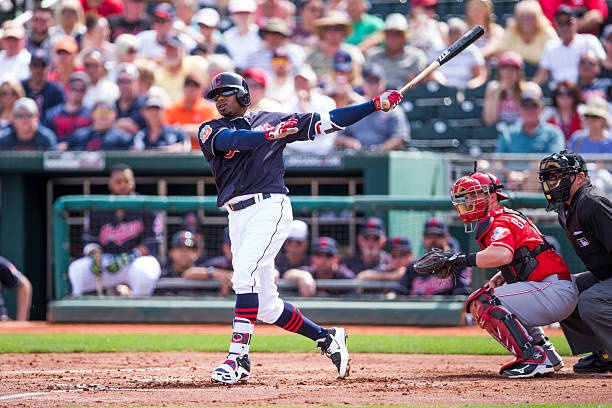bita: (387, 22, 486, 103)
